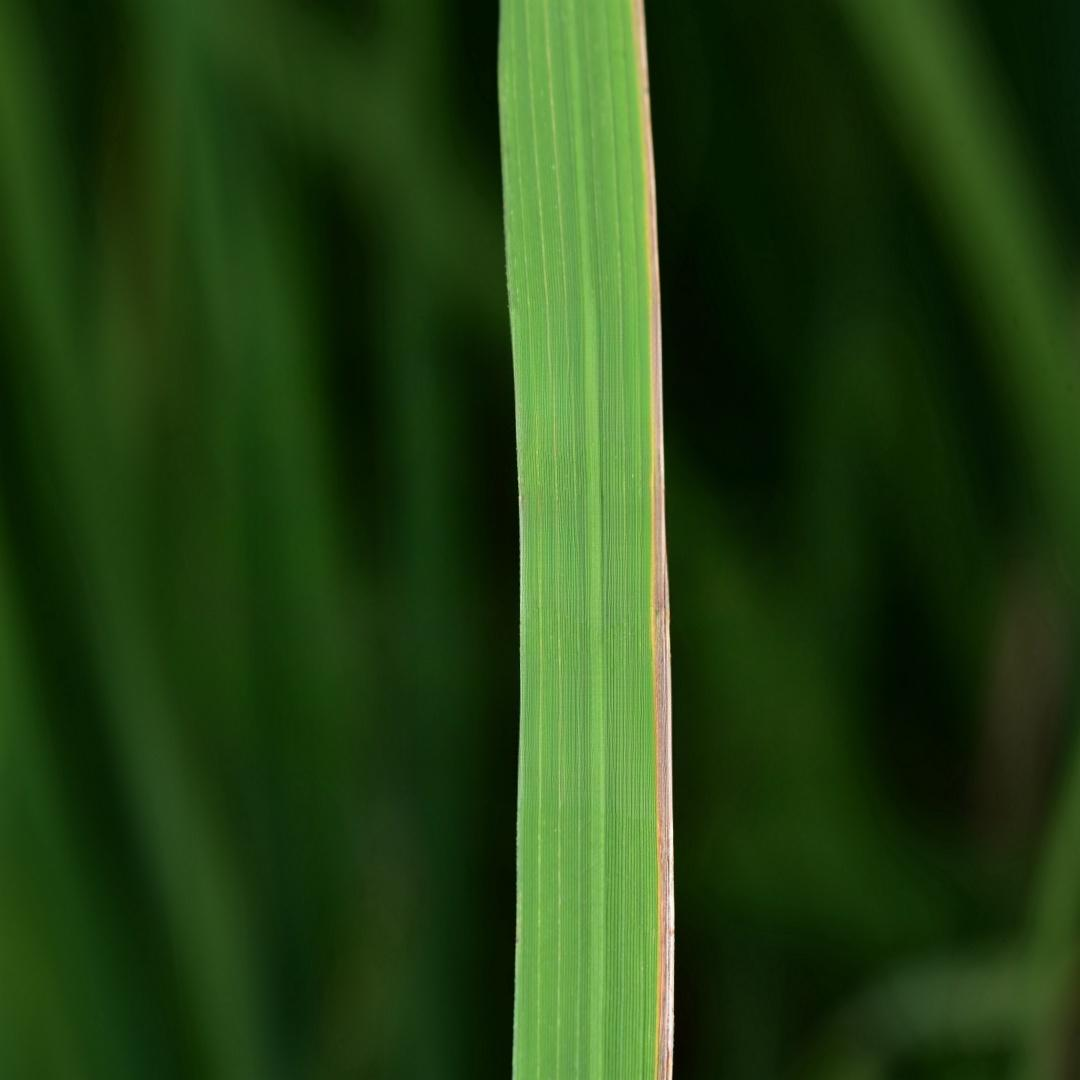BLB: (634, 0, 674, 1079)
